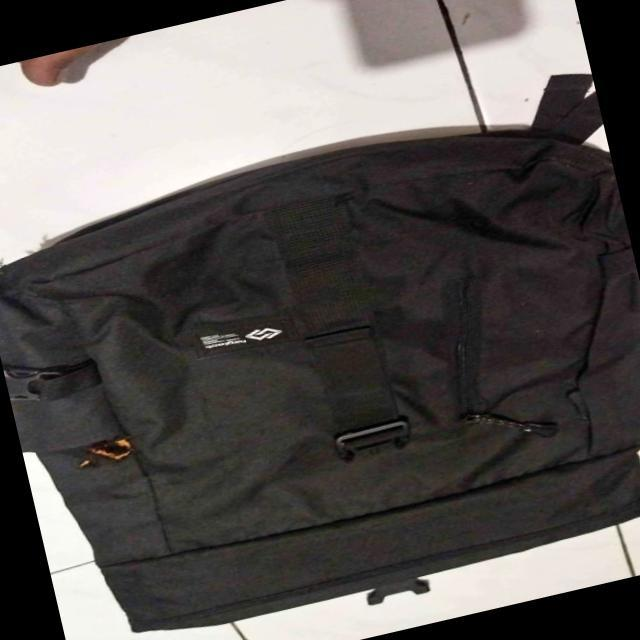bag: (0, 133, 636, 633)
